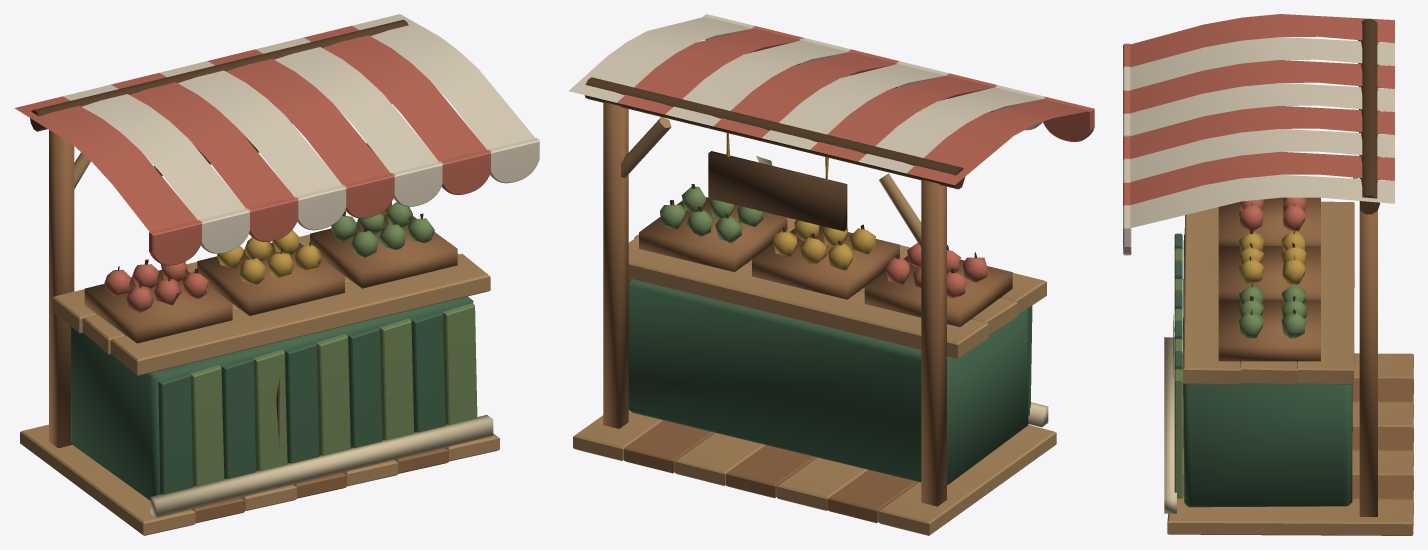
The model's file is puesto_mercado_lod.glb.
3 renders of one model, left to right at view 1: azimuth 30°, elevation 25°; view 2: azimuth 150°, elevation 25°; view 3: azimuth 270°, elevation 25°, orthographic. The views are drawn at different scales.
Visible parts, largest first — view 1: puesto_mercado; view 2: puesto_mercado; view 3: puesto_mercado.
Boxes of the visible parts, x1,y1,x2,y2 form: puesto_mercado: (14,14,539,535); puesto_mercado: (569,14,1094,535); puesto_mercado: (1123,14,1413,535).
Bounding box in the file's own units: 2.51 × 2.19 × 1.67.
